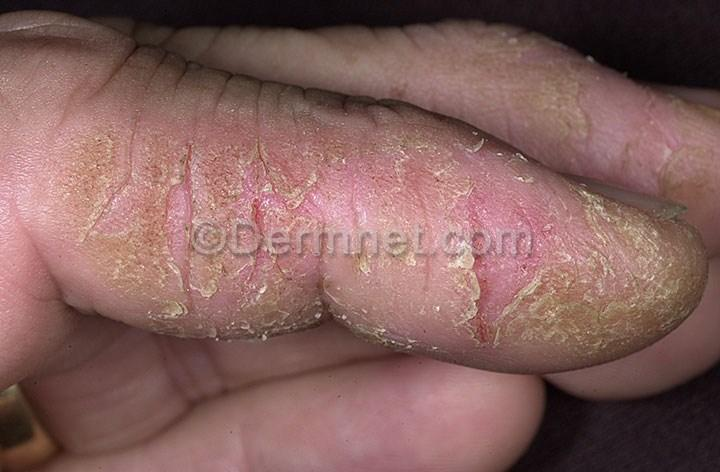Eczema: (58, 116, 342, 211), (568, 213, 704, 361), (499, 35, 617, 159), (357, 258, 535, 337), (387, 132, 482, 217), (195, 262, 320, 323), (659, 92, 720, 195), (80, 226, 181, 288)
